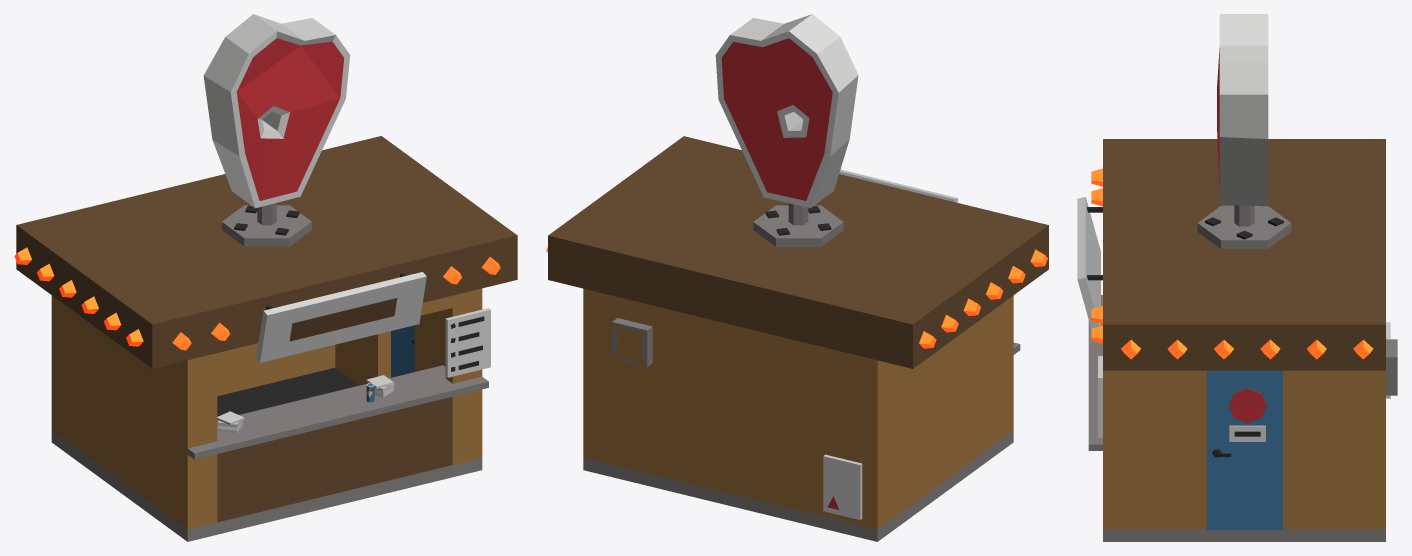
Rendered from amusement-park-steak-stall.glb.
The picture shows the model from 3 angles, left to right: view 1: azimuth 30°, elevation 25°; view 2: azimuth 150°, elevation 25°; view 3: azimuth 270°, elevation 25°; orthographic projection. The views are drawn at different scales.
Visible parts, largest first — view 1: steak-stall; view 2: steak-stall; view 3: steak-stall.
Boxes of the visible parts, bbox=[...] form: steak-stall: bbox=[14, 14, 517, 541]; steak-stall: bbox=[546, 14, 1048, 541]; steak-stall: bbox=[1077, 14, 1397, 541].
Bounding box in the file's own units: 4.9 × 5.29 × 3.39.
